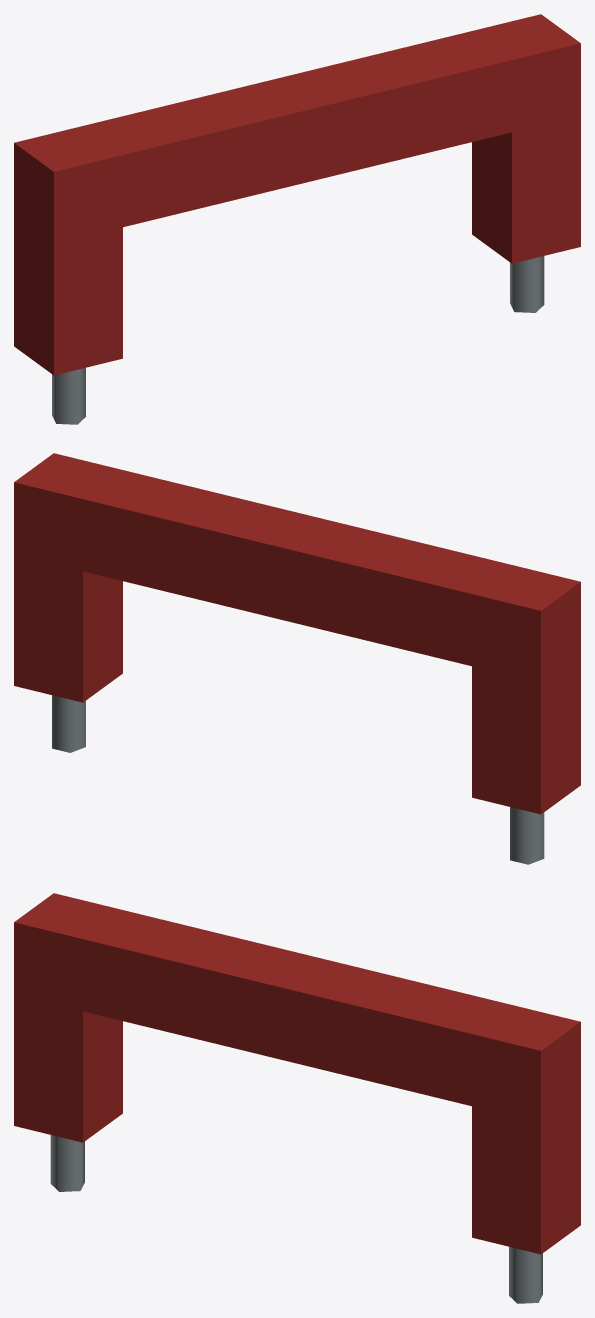
File: jumper_vermelho.glb
3 renders of one model, top to bottom at view 1: azimuth 30°, elevation 25°; view 2: azimuth 150°, elevation 25°; view 3: azimuth 330°, elevation 25°, orthographic.
Parts seen in each view (by area): view 1: jumper_vermelho_malha; view 2: jumper_vermelho_malha; view 3: jumper_vermelho_malha.
Boxes of the visible parts, x1,y1,x2,y2 form: jumper_vermelho_malha: (14,14,580,424); jumper_vermelho_malha: (14,453,580,864); jumper_vermelho_malha: (14,893,580,1303).
Size of the model in its own units: 0.168 by 0.082 by 0.022.
